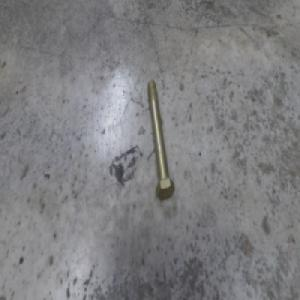Bolt: (147, 80, 175, 202)
